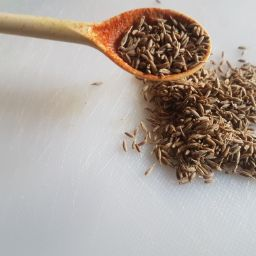Cumin (zeera): (84, 66, 256, 191), (112, 38, 256, 178), (131, 54, 256, 199), (96, 11, 237, 95), (130, 13, 210, 76)
